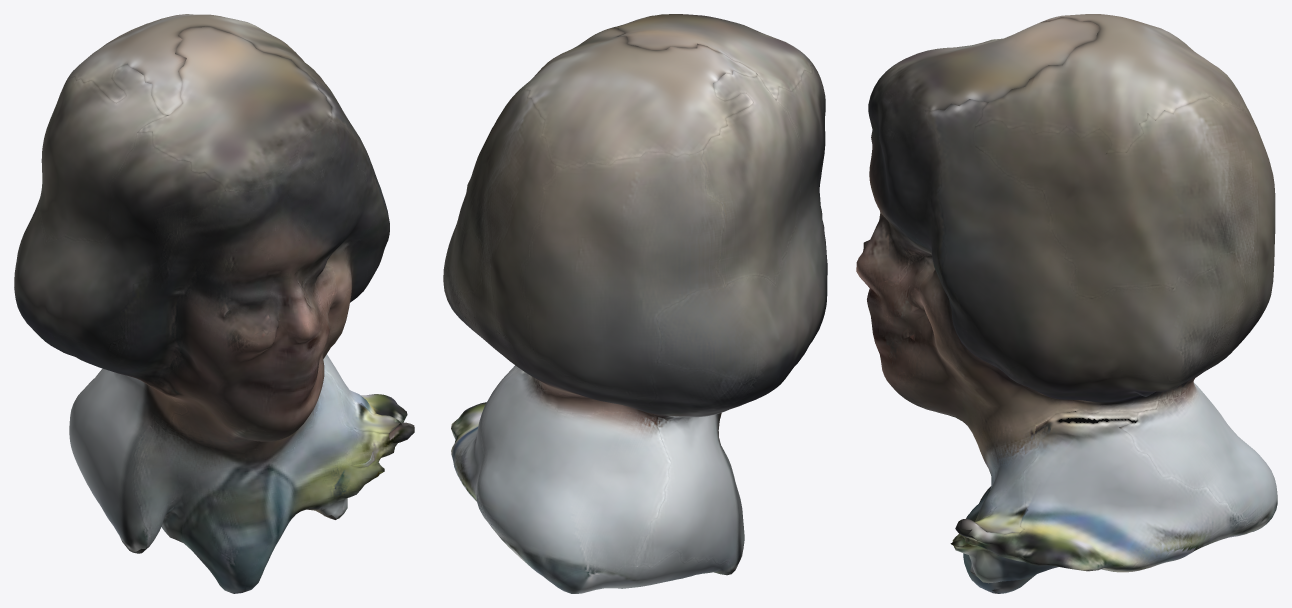
3 views of the same model, side by side, from view 1: azimuth 30°, elevation 25°; view 2: azimuth 150°, elevation 25°; view 3: azimuth 270°, elevation 25° (orthographic). The views are drawn at different scales.
Visible parts, largest first — view 1: model.obj; view 2: model.obj; view 3: model.obj.
Part boxes in pixels (box(x1,y1,x2,y2)): model.obj: box(14, 14, 414, 593); model.obj: box(443, 14, 827, 593); model.obj: box(856, 14, 1277, 593).
Size of the model in its own units: 72.15 by 105 by 71.39.
1 material, 1 textured.
